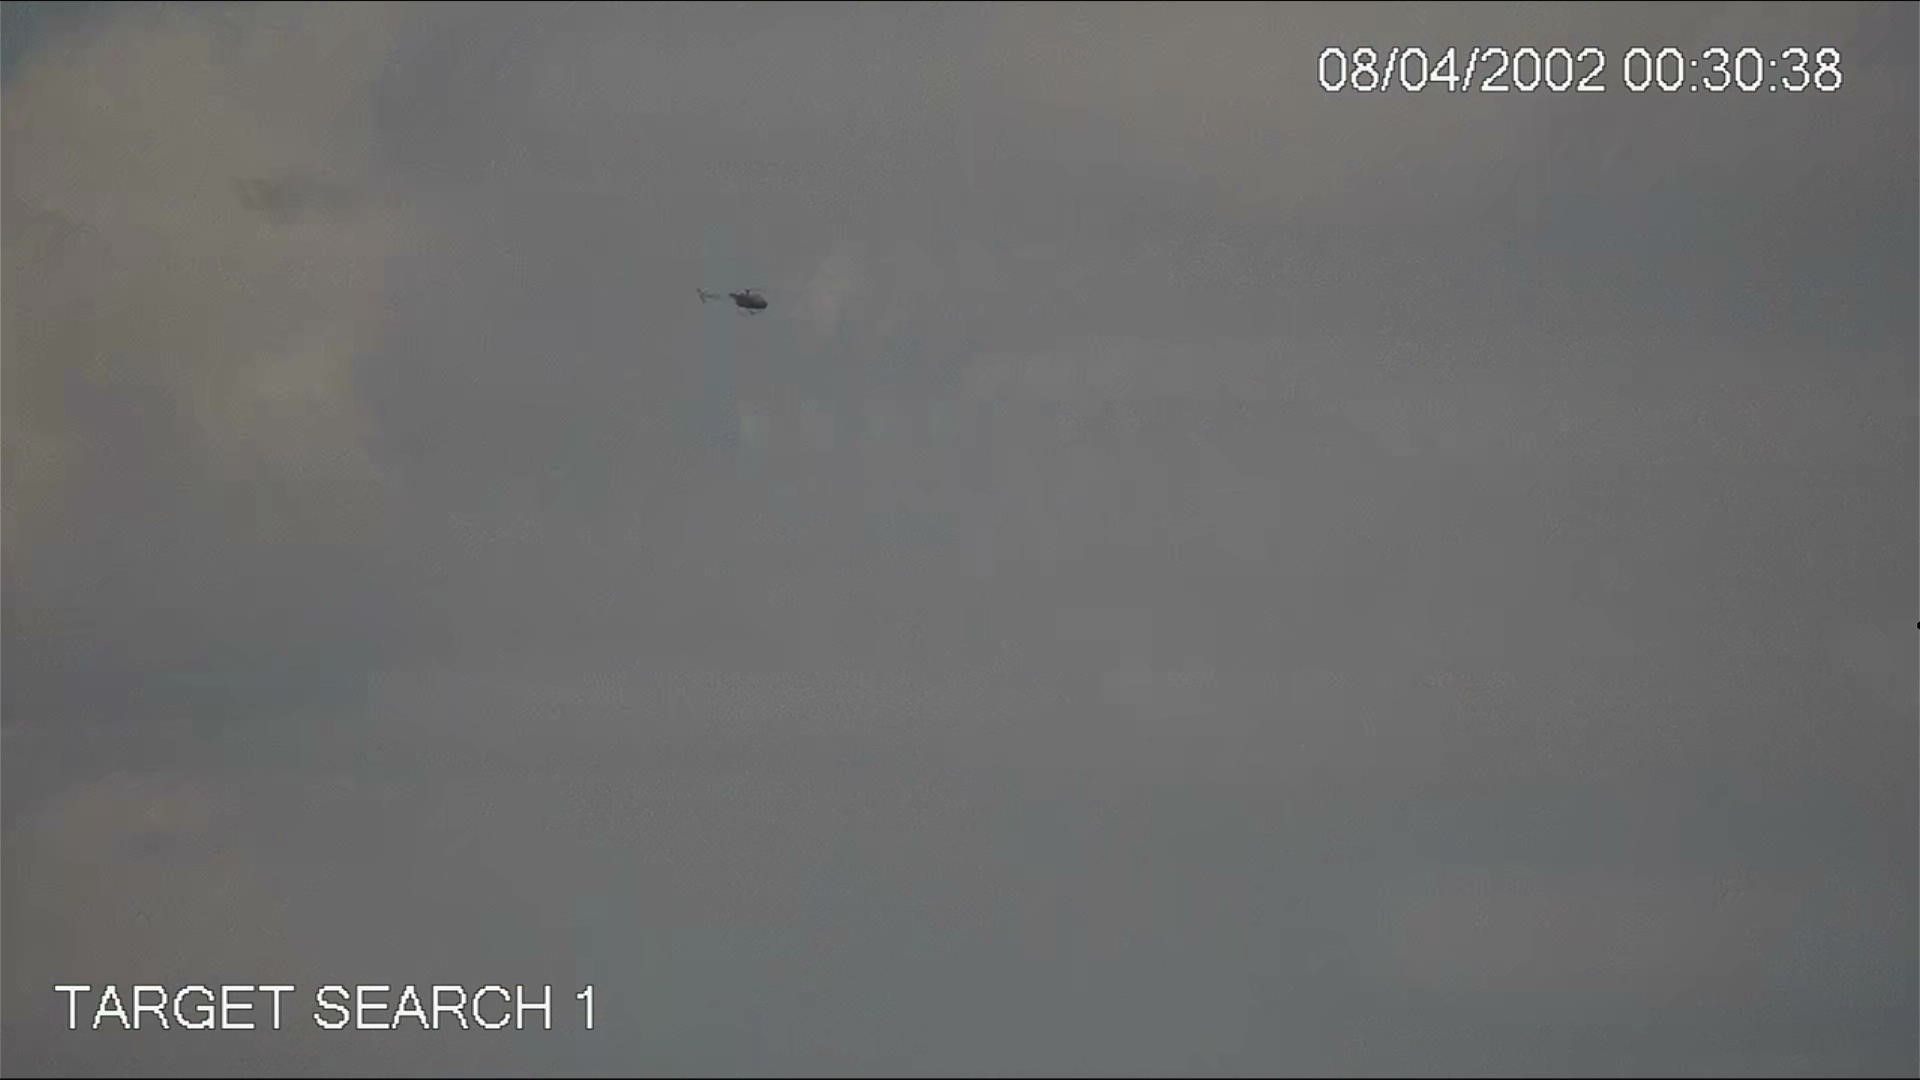SU_30: (696, 281, 774, 316)
